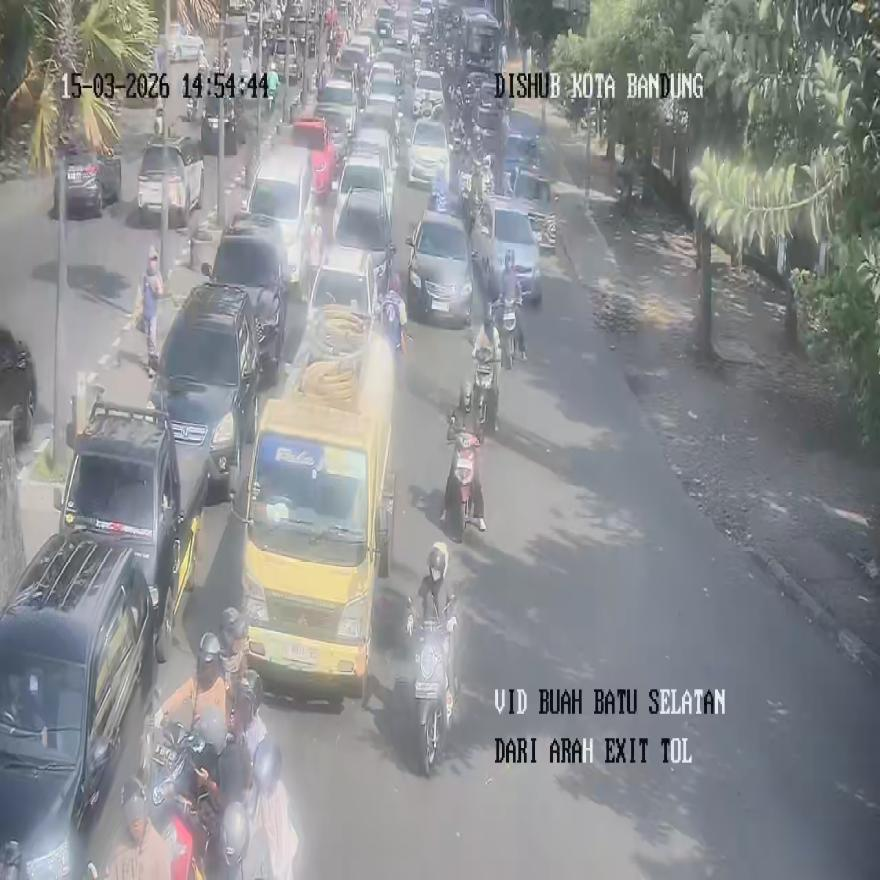Mobil: (0, 534, 155, 879), (55, 396, 209, 662), (148, 282, 258, 492), (202, 212, 289, 381), (138, 134, 204, 228)
Motor: (407, 594, 457, 777), (444, 412, 483, 541), (495, 298, 521, 369)
Truk menengah: (238, 333, 396, 702)
